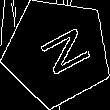N_SW: (26, 22, 89, 81)
